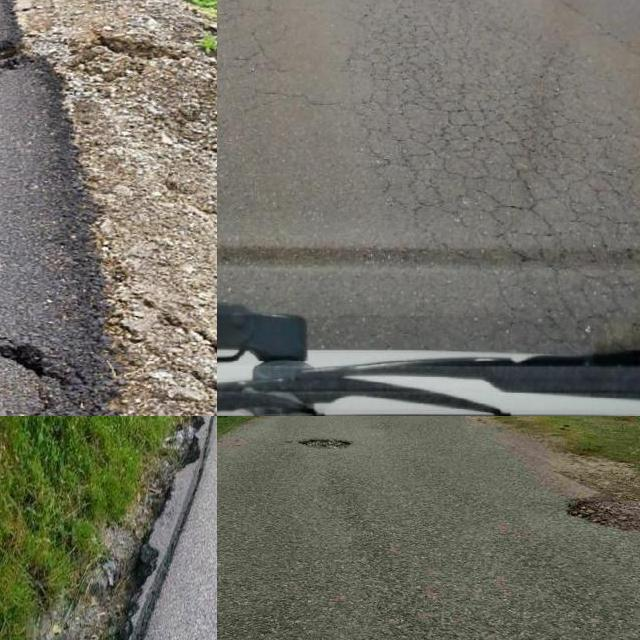Lubang: (288, 431, 360, 459)
Pinggir: (0, 20, 139, 396), (79, 416, 217, 640), (550, 466, 640, 539)
Retak Buaya: (339, 0, 640, 374)
